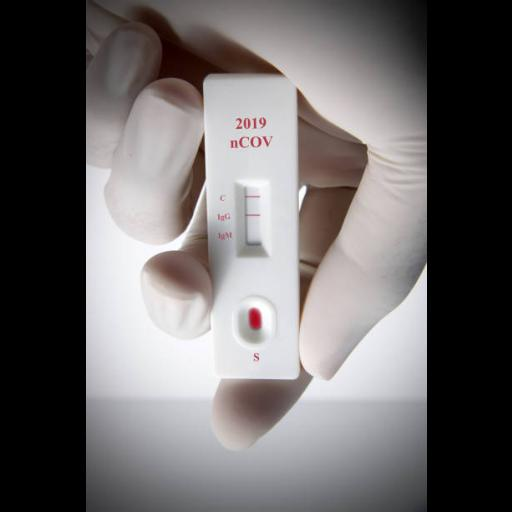Pos: (201, 74, 295, 378)
